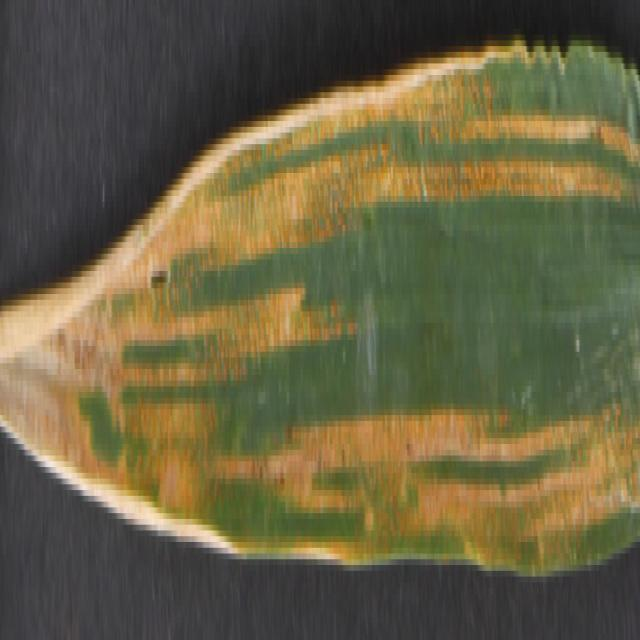leaf rust: (73, 29, 639, 576)
